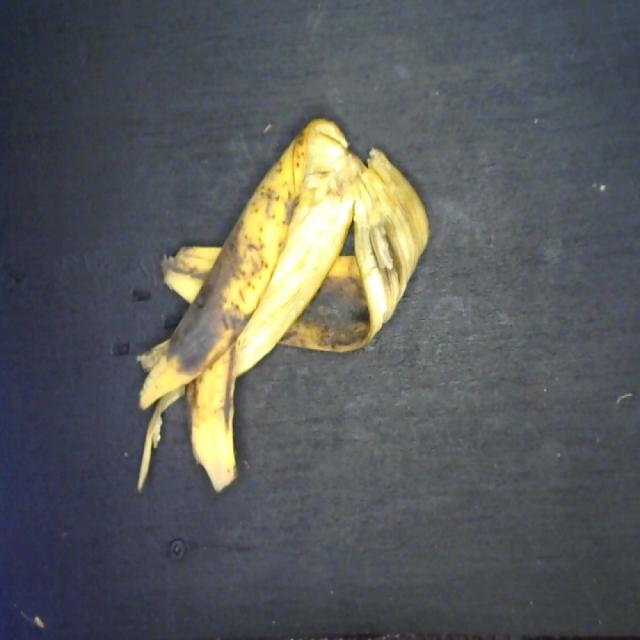biodegradable: (131, 108, 436, 506)
